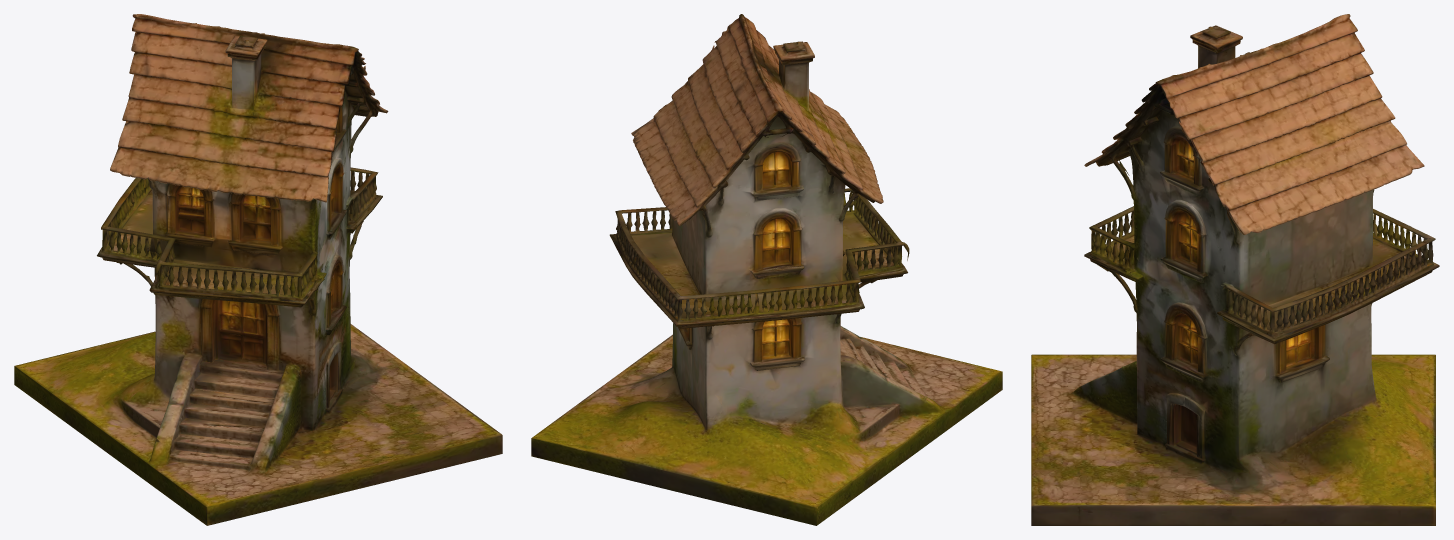
File: pixellabs-house-3334.glb
3 views of the same model, side by side, from view 1: azimuth 30°, elevation 25°; view 2: azimuth 150°, elevation 25°; view 3: azimuth 270°, elevation 25° (orthographic). The views are drawn at different scales.
Parts seen in each view (by area): view 1: material; view 2: material; view 3: material.
Part boxes in pixels (x1,y1,x2,y2): material: (14, 14, 502, 525); material: (531, 14, 1002, 525); material: (1031, 14, 1439, 525).
Bounding box in the file's own units: 0.6087 × 0.7716 × 0.6937.
Materials: 1 (1 with a texture image).
